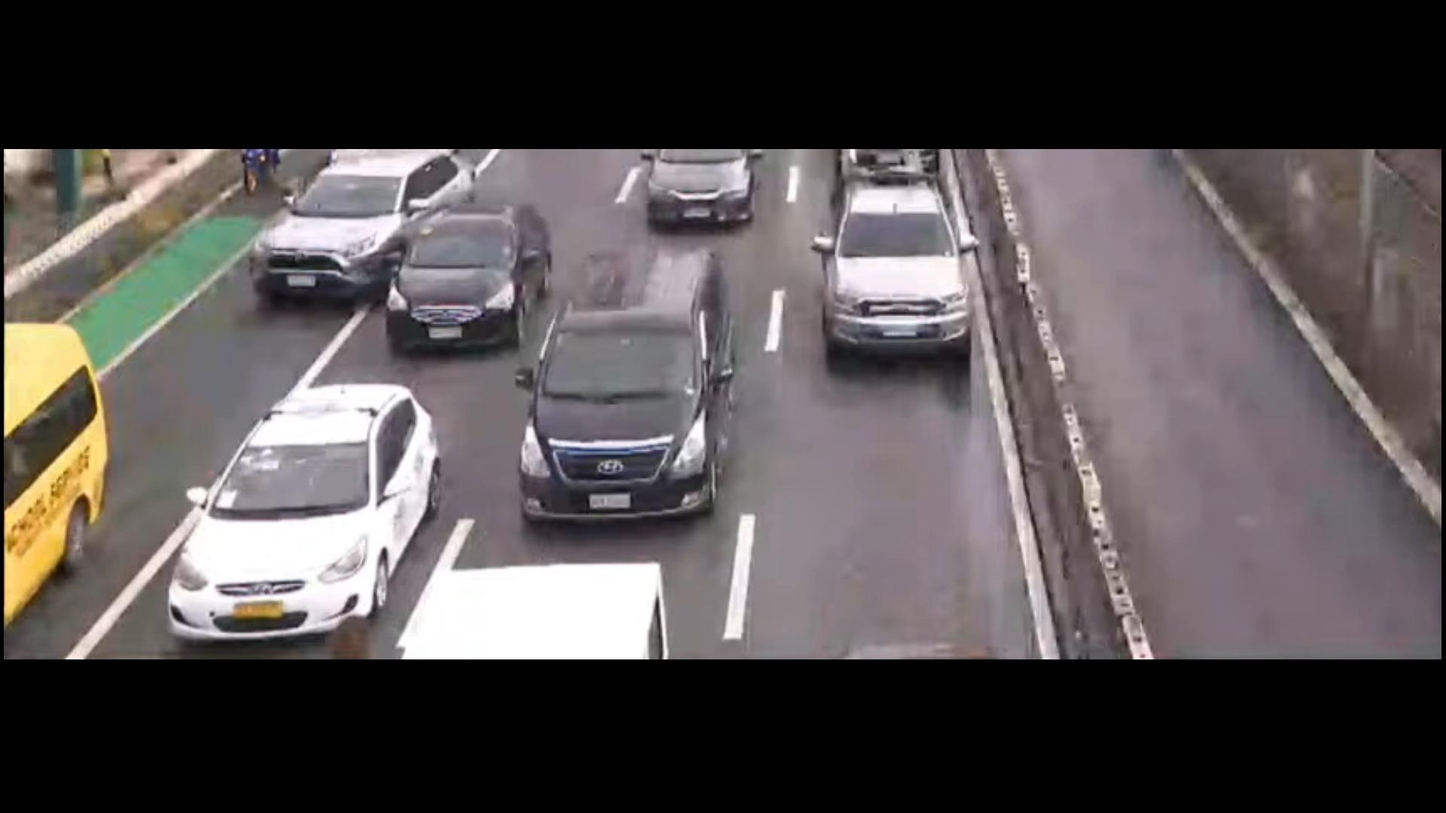SUV: (234, 151, 475, 312), (810, 174, 985, 381)
Sedan: (164, 375, 458, 646), (375, 181, 567, 396)
Van: (498, 234, 765, 562), (0, 300, 134, 651)
